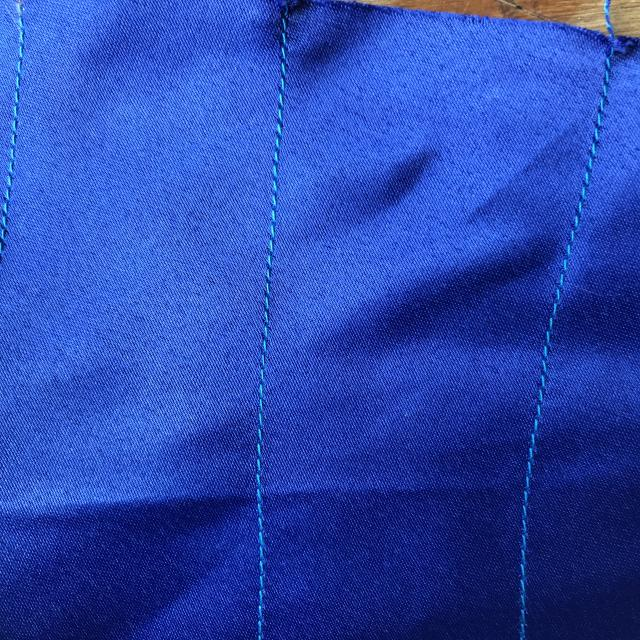good: (256, 194, 288, 354)
